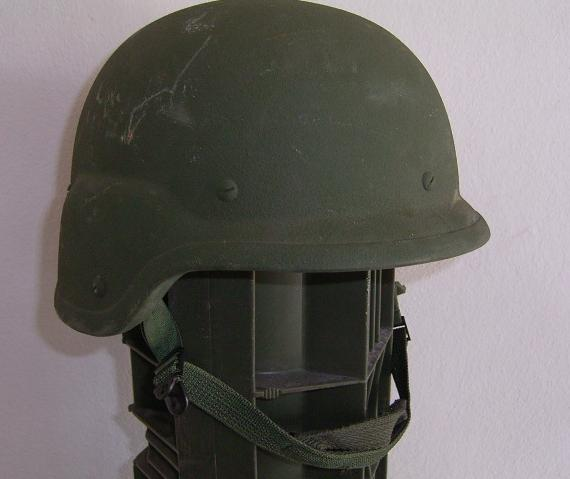helmet: (27, 1, 520, 347)
